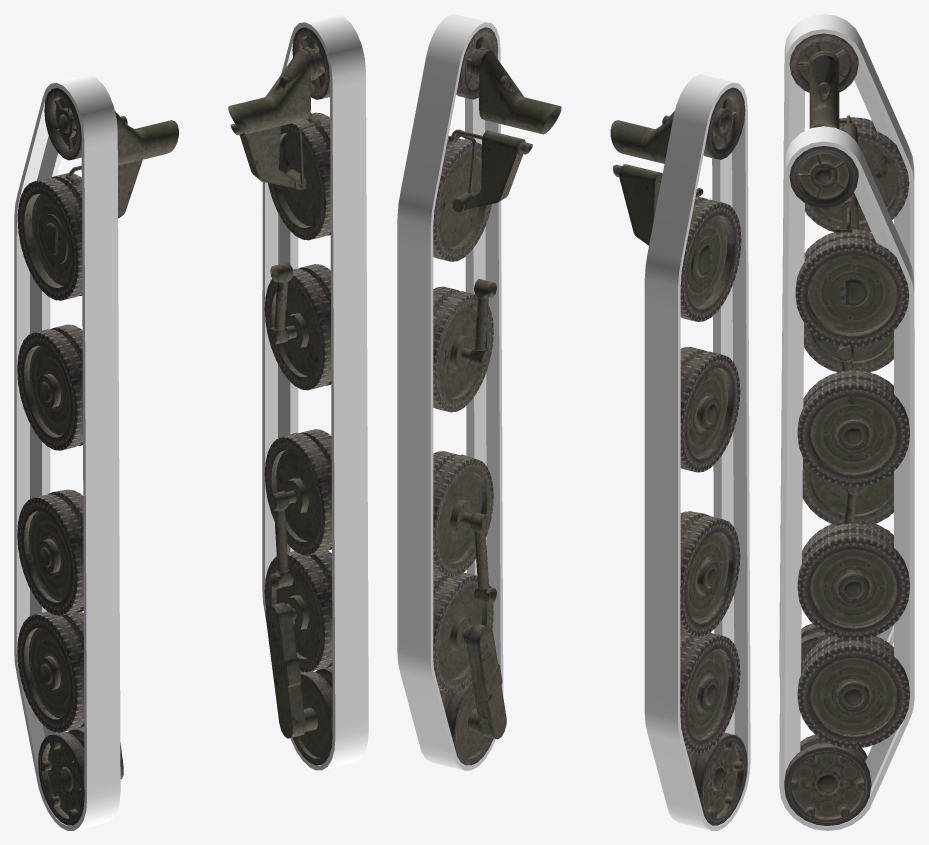
The model's file is Chassis.glb.
3 renders of one model, left to right at view 1: azimuth 30°, elevation 25°; view 2: azimuth 150°, elevation 25°; view 3: azimuth 270°, elevation 25°, orthographic. The views are drawn at different scales.
Parts seen in each view (by area): view 1: set_3_group_0, set_1_group_0, set_2_group_0, set_0_group_0; view 2: set_1_group_0, set_3_group_0, set_0_group_0, set_2_group_0; view 3: set_3_group_0, set_0_group_0, set_2_group_0, set_1_group_0.
Part boxes in pixels (left/top/right/bottom): set_3_group_0: left=228, top=27, right=332, bottom=765; set_1_group_0: left=14, top=74, right=120, bottom=830; set_2_group_0: left=17, top=88, right=178, bottom=825; set_0_group_0: left=262, top=14, right=368, bottom=770; set_1_group_0: left=644, top=74, right=750, bottom=830; set_3_group_0: left=433, top=27, right=561, bottom=765; set_0_group_0: left=397, top=14, right=503, bottom=770; set_2_group_0: left=610, top=87, right=747, bottom=825; set_3_group_0: left=784, top=146, right=909, bottom=826; set_0_group_0: left=779, top=126, right=914, bottom=830; set_2_group_0: left=789, top=33, right=909, bottom=665; set_1_group_0: left=779, top=14, right=914, bottom=677.
Size of the model in its own units: 2.24 by 5.56 by 0.9883.
Materials: 4 (2 with a texture image).
